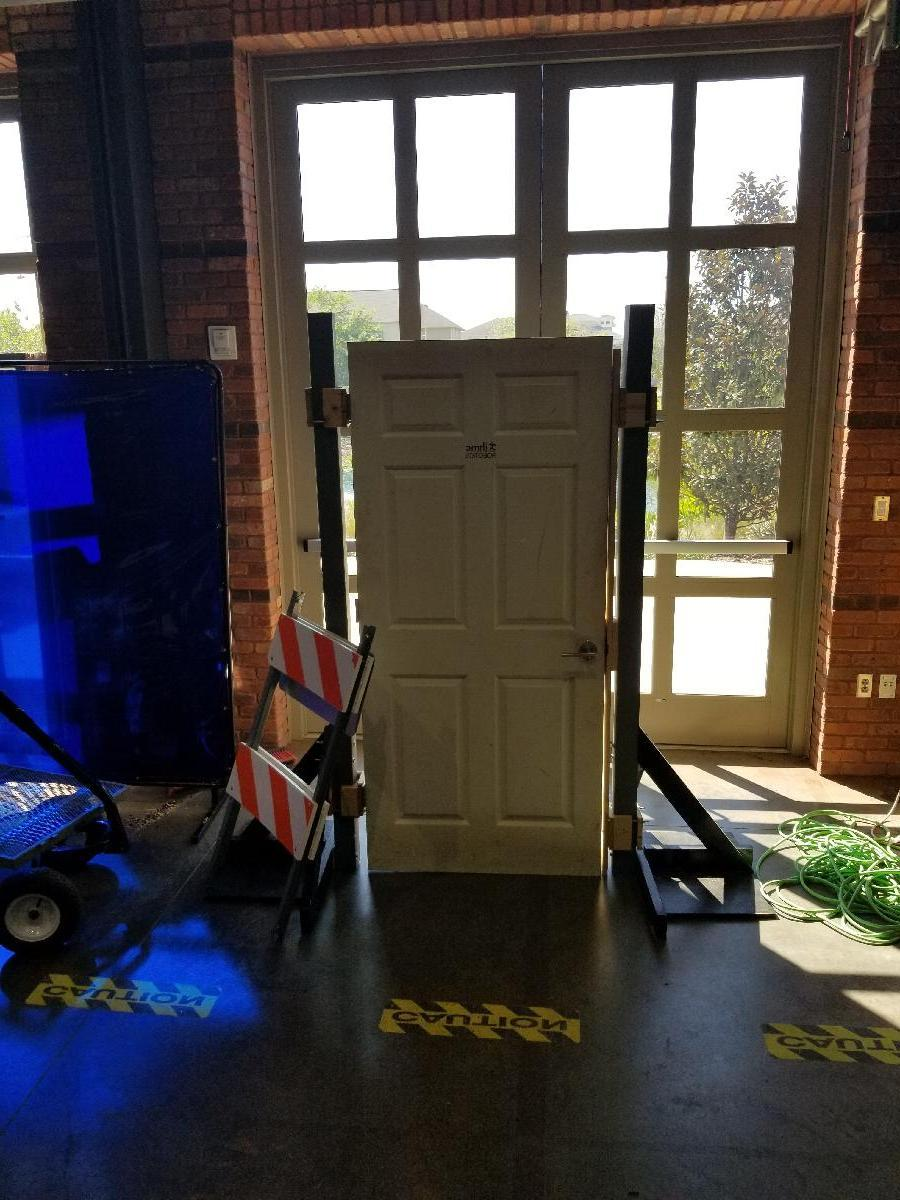door: (360, 328, 614, 873)
handle: (557, 640, 604, 666)
